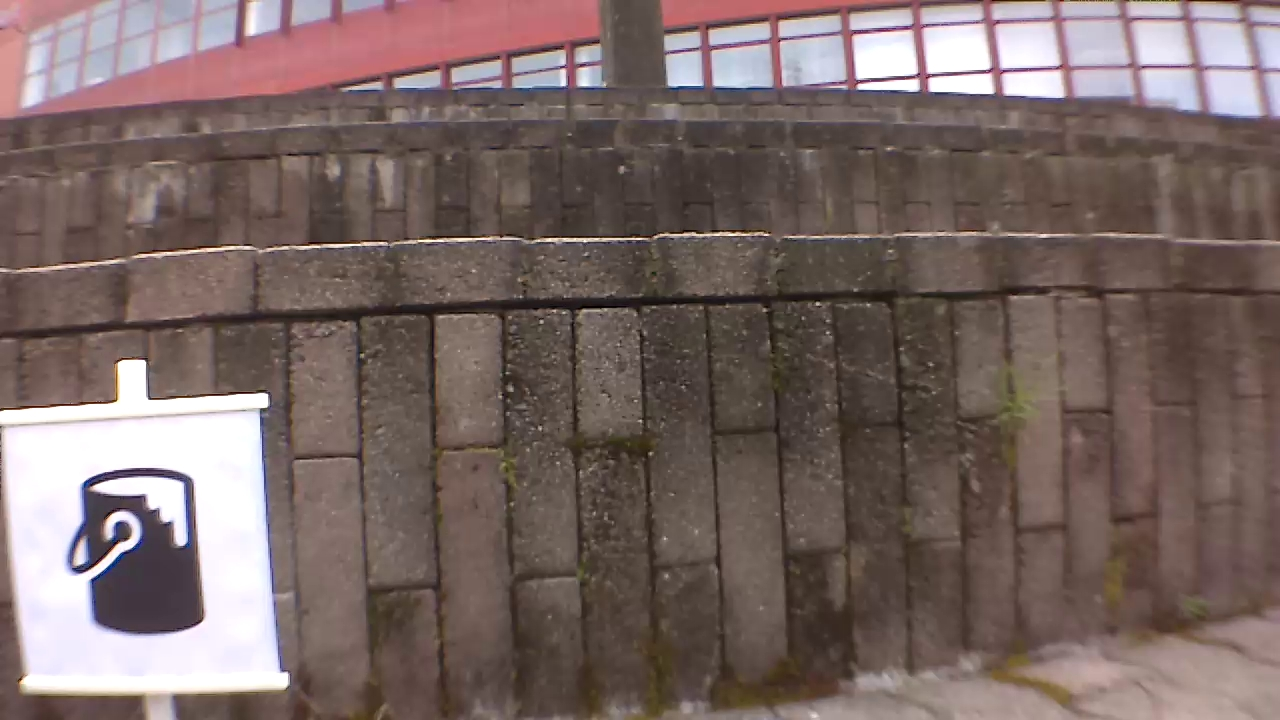bucket: (67, 467, 196, 637)
